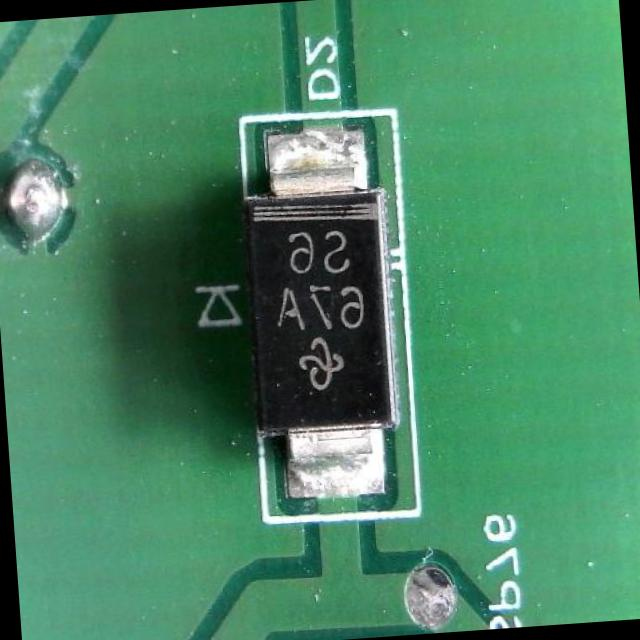capacitor: (232, 126, 418, 486)
